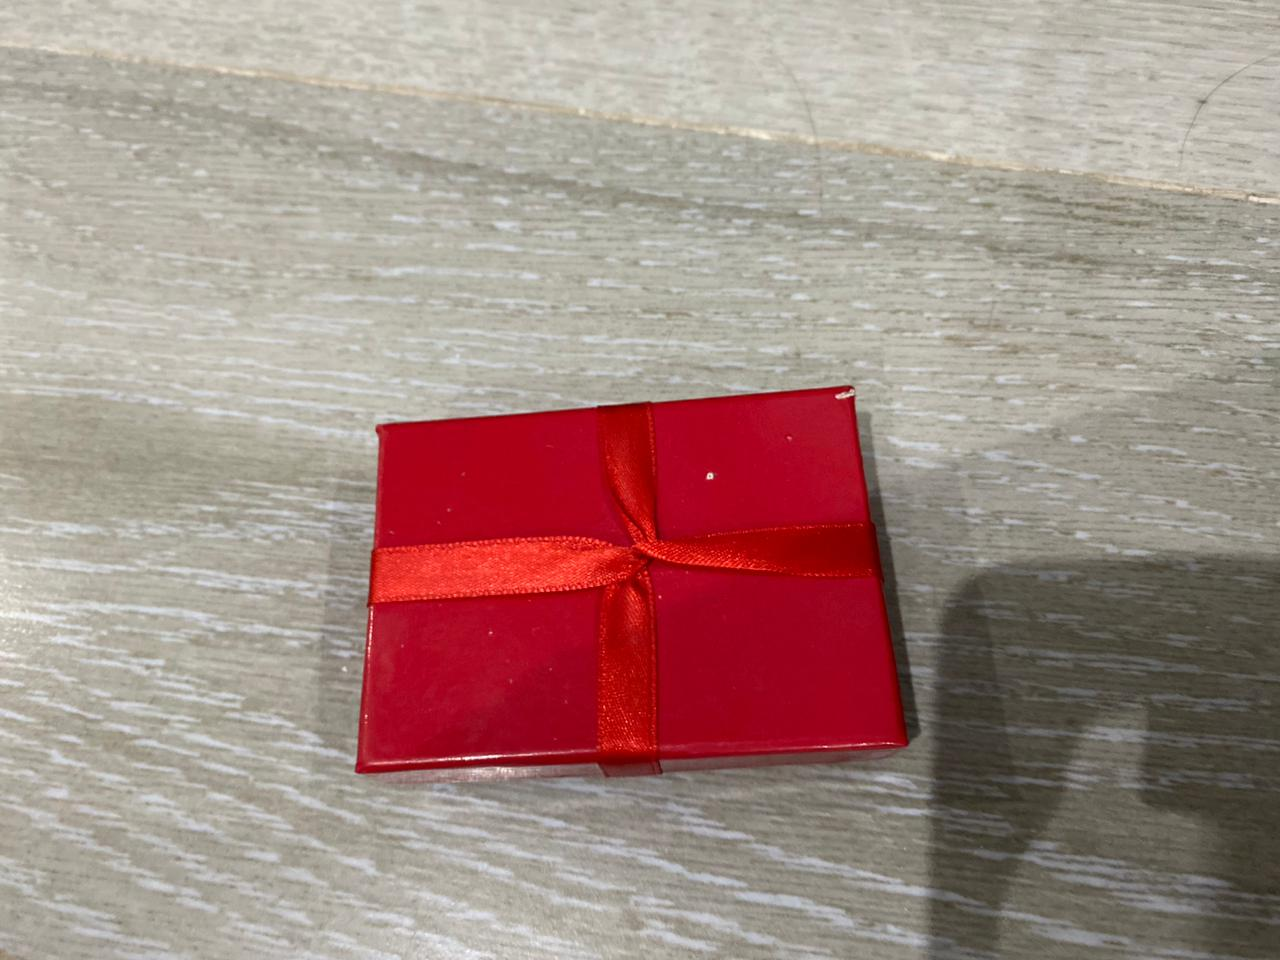Black Box: (353, 385, 914, 783)
